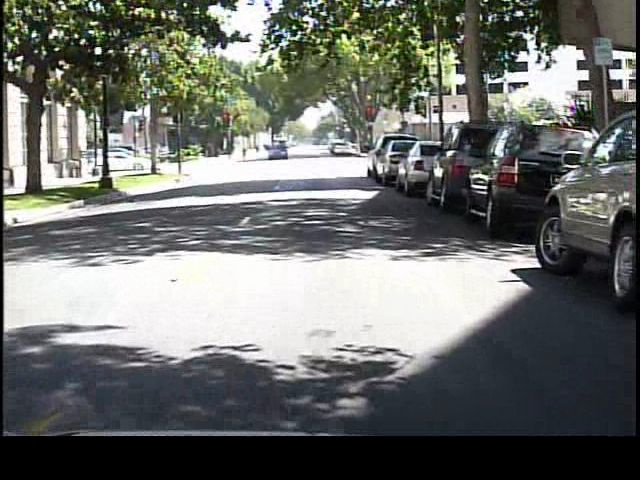person: (238, 141, 251, 164)
